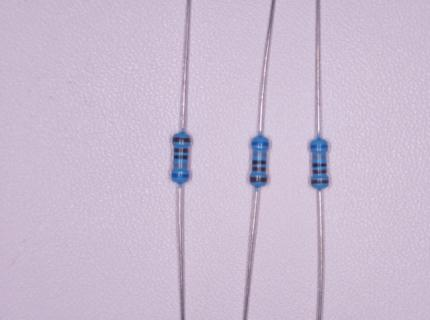Black band: (252, 160, 267, 165), (312, 163, 327, 167), (174, 155, 188, 159)
Blue band: (171, 173, 189, 179), (251, 142, 268, 147), (310, 145, 328, 149)
Brown band: (172, 138, 191, 143), (311, 179, 329, 184), (250, 177, 267, 182), (174, 148, 188, 153), (253, 167, 265, 172), (313, 170, 327, 174)
Grey band: (173, 163, 188, 168), (253, 152, 267, 157), (313, 155, 326, 159)
